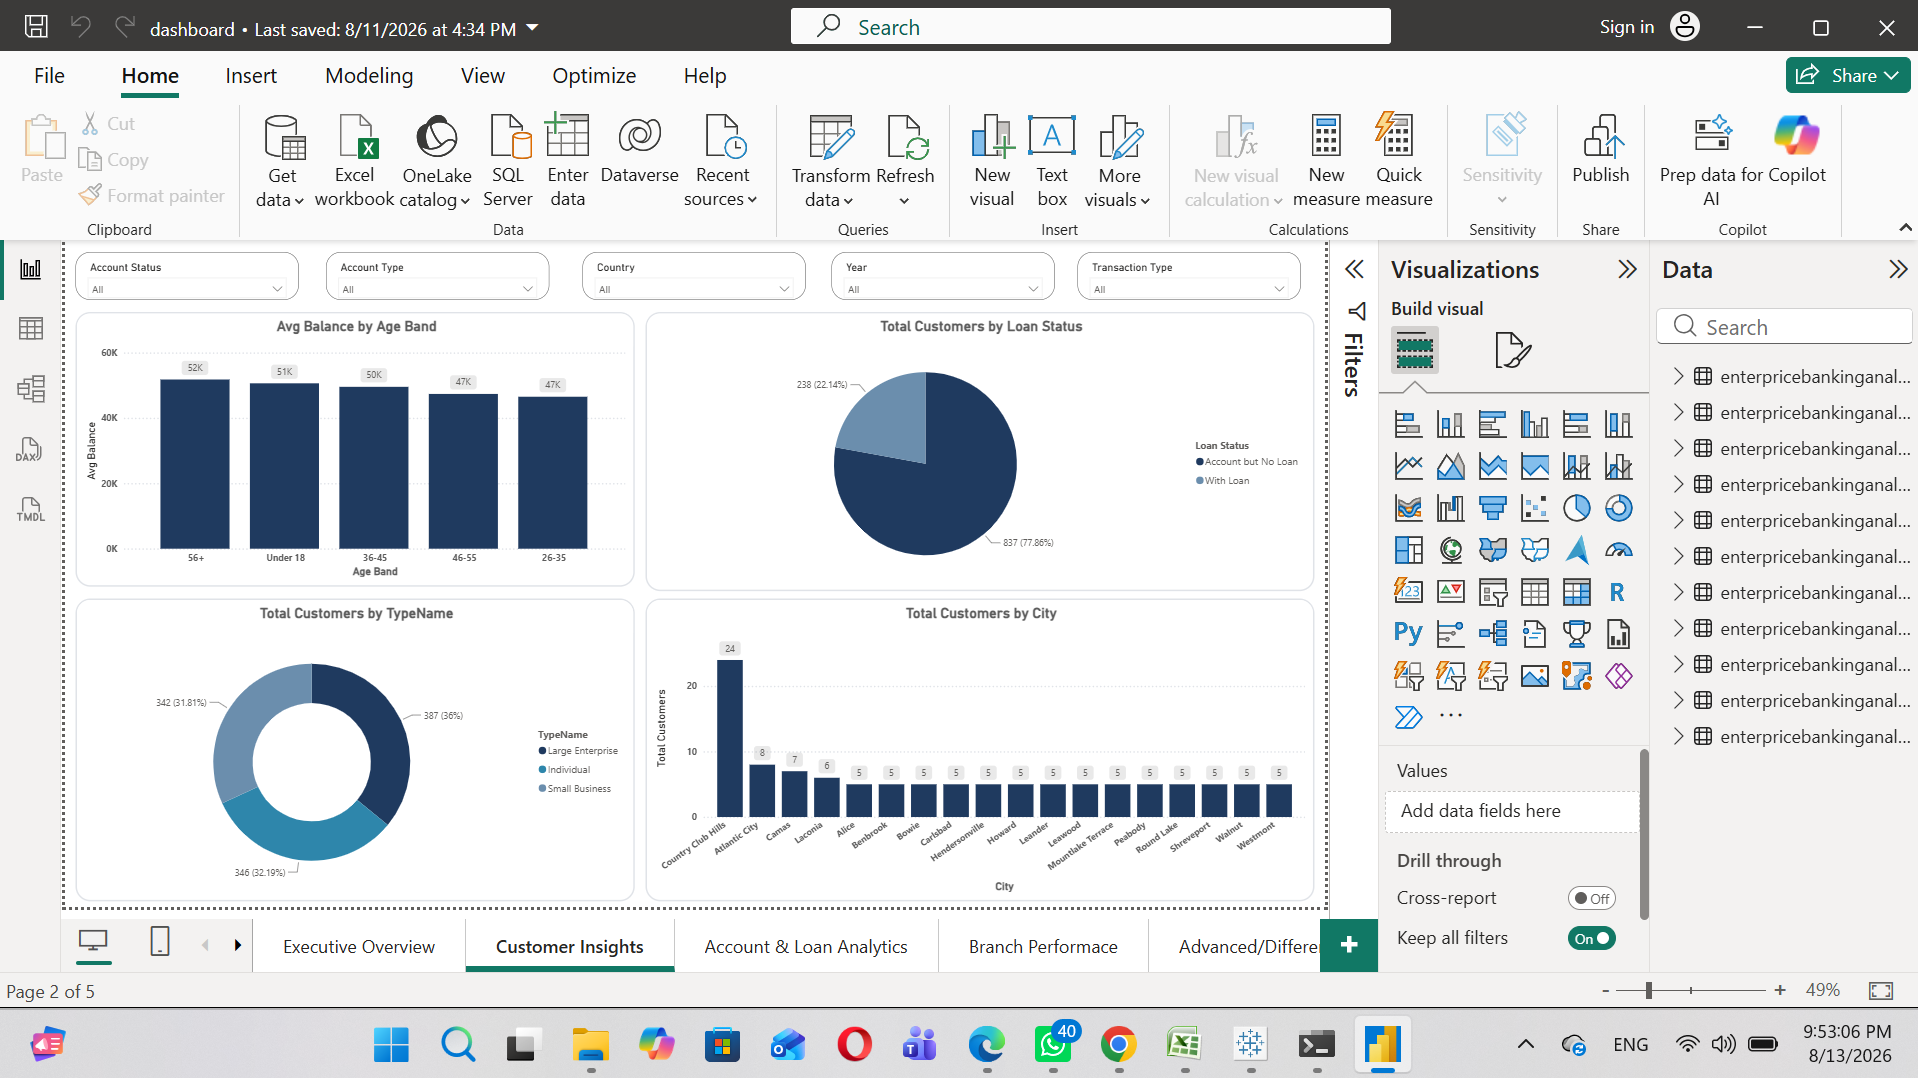

The dashboard page shown, as its layout file describes it:
{"tool":"powerbi","page":{"name":"Customer Insights","canvas":[1700,900],"ordinal":1},"visuals":[{"type":"donutChart","fields":{"Category":["enterpricebankinganalyticsdb customer_types.TypeName"],"Y":["enterpricebankinganalyticsdb customers.Total Customers"]},"box":[14.2,483.7,755,408.9],"z":0},{"type":"columnChart","fields":{"Category":["enterpricebankinganalyticsdb addresses.City"],"Y":["enterpricebankinganalyticsdb customers.Total Customers"]},"box":[783.3,483.7,902.7,408.9],"z":1000},{"type":"columnChart","fields":{"Category":["enterpricebankinganalyticsdb customers.Age Band"],"Y":["enterpricebankinganalyticsdb accounts.Avg Balance"]},"box":[14.2,97.2,755,370.4],"z":2000},{"type":"pieChart","fields":{"Category":["enterpricebankinganalyticsdb customers.Loan Status"],"Y":["enterpricebankinganalyticsdb customers.Total Customers"]},"box":[783.3,97.2,902.7,376.5],"z":3000},{"type":"slicer","fields":{"Values":["enterpricebankinganalyticsdb account_statuses.StatusName"]},"box":[14.2,16.2,301.6,64.8],"z":4000},{"type":"slicer","fields":{"Values":["enterpricebankinganalyticsdb account_types.TypeName"]},"box":[352.2,16.2,301.6,64.8],"z":5000},{"type":"slicer","fields":{"Values":["enterpricebankinganalyticsdb addresses.Country"]},"box":[698.3,16.2,301.6,64.8],"z":6000},{"type":"slicer","fields":{"Values":["enterpricebankinganalyticsdb transactions.TransactionDate.Variation.Date Hierarchy.Year"]},"box":[1034.3,16.2,301.6,64.8],"z":7000},{"type":"slicer","fields":{"Values":["enterpricebankinganalyticsdb transaction_types.TypeName"]},"box":[1366.2,16.2,301.6,64.8],"z":8000}]}

Visuals, with their boxes on the page's 1700x900 design canvas (x1, y1, x2, y2). These are canvas units, not pixel positions in the 1918x1078 screenshot, which may show the page scaled, cropped or inside an application window:
donutChart - enterpricebankinganalyticsdb customer_types.TypeName x enterpricebankinganalyticsdb customers.Total Customers: 14 484 769 893
columnChart - enterpricebankinganalyticsdb addresses.City x enterpricebankinganalyticsdb customers.Total Customers: 783 484 1686 893
columnChart - enterpricebankinganalyticsdb customers.Age Band x enterpricebankinganalyticsdb accounts.Avg Balance: 14 97 769 468
pieChart - enterpricebankinganalyticsdb customers.Loan Status x enterpricebankinganalyticsdb customers.Total Customers: 783 97 1686 474
slicer - enterpricebankinganalyticsdb account_statuses.StatusName: 14 16 316 81
slicer - enterpricebankinganalyticsdb account_types.TypeName: 352 16 654 81
slicer - enterpricebankinganalyticsdb addresses.Country: 698 16 1000 81
slicer - enterpricebankinganalyticsdb transactions.TransactionDate.Variation.Date Hierarchy.Year: 1034 16 1336 81
slicer - enterpricebankinganalyticsdb transaction_types.TypeName: 1366 16 1668 81
